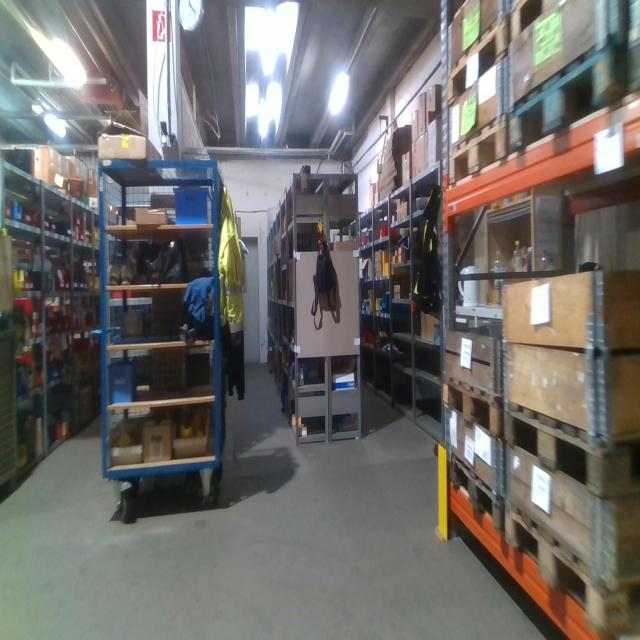pallet: (503, 497, 636, 636), (507, 43, 622, 160), (502, 400, 637, 493), (444, 13, 508, 107), (446, 450, 504, 546), (445, 111, 510, 189), (438, 374, 500, 443), (507, 3, 578, 51)
small_load_carrier: (175, 184, 212, 227), (108, 360, 131, 406)
stillage: (1, 317, 24, 508)
